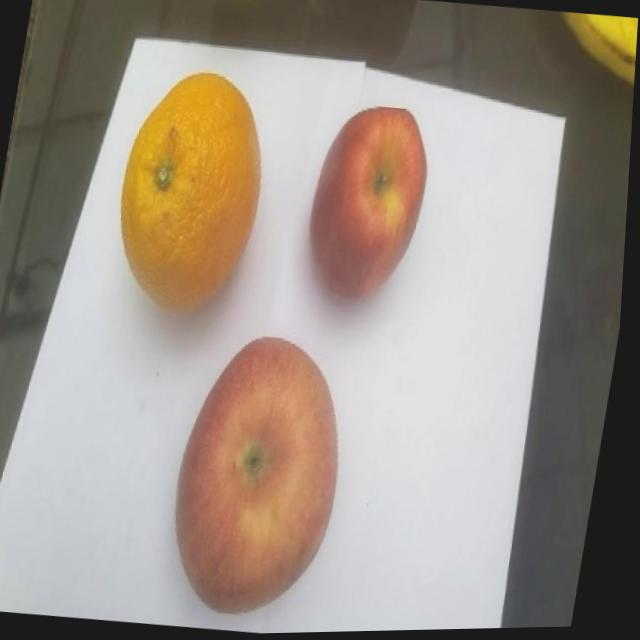Apple: (164, 329, 365, 627), (301, 102, 440, 308)
Banana: (549, 14, 639, 97)
Orange: (105, 66, 281, 322)
